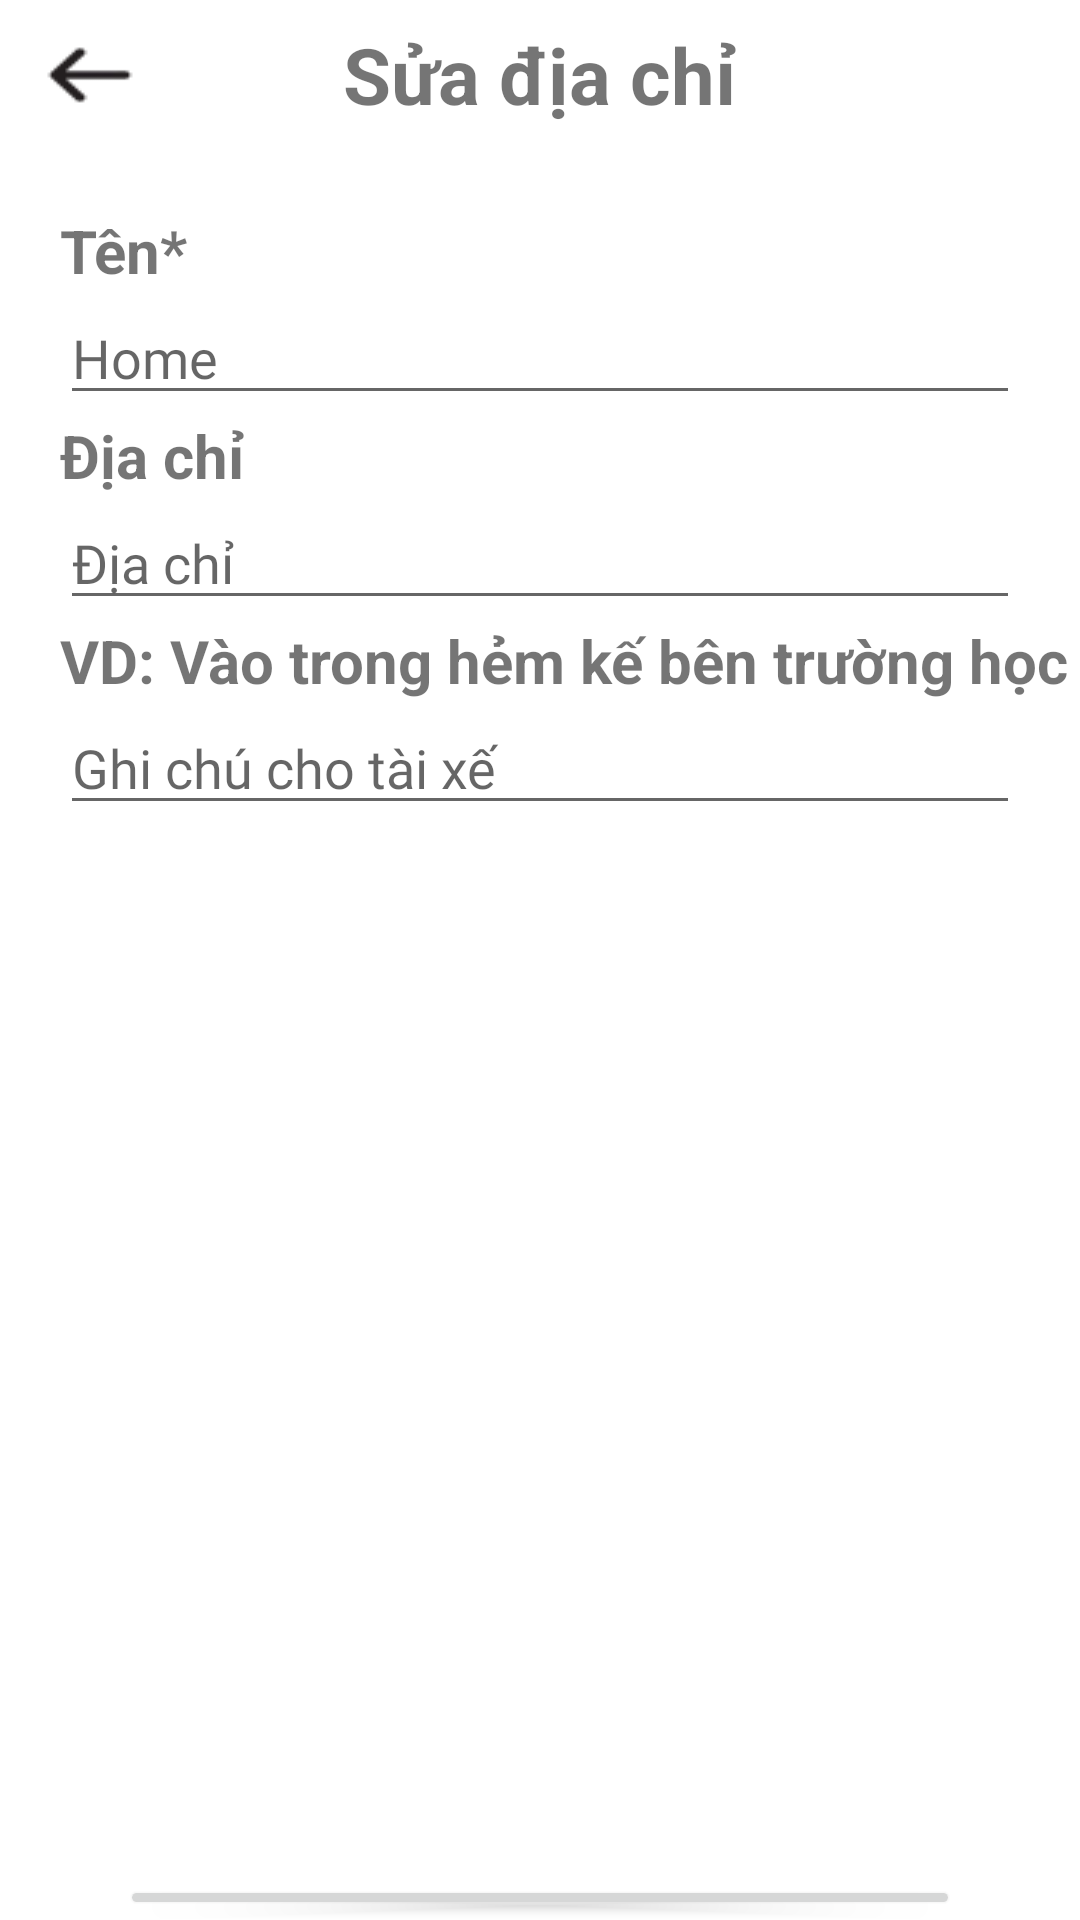

Screen size 1080 x 1920. Icon name, then its center in pixels as (x,y):
back: (90,75)
